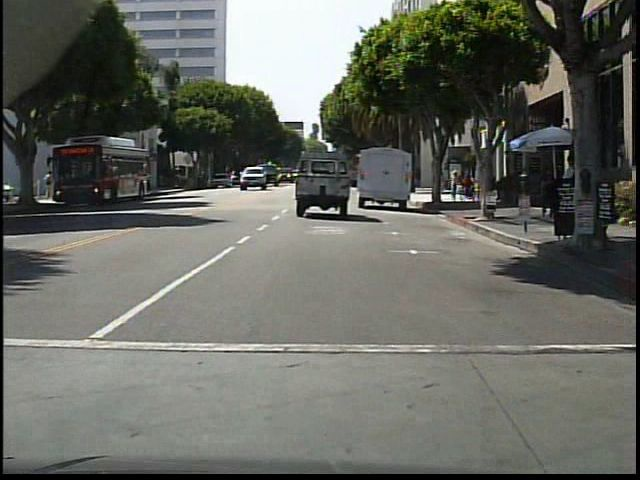person: (558, 152, 584, 234), (538, 168, 555, 219), (448, 170, 459, 203), (438, 167, 448, 203), (43, 170, 55, 198)
